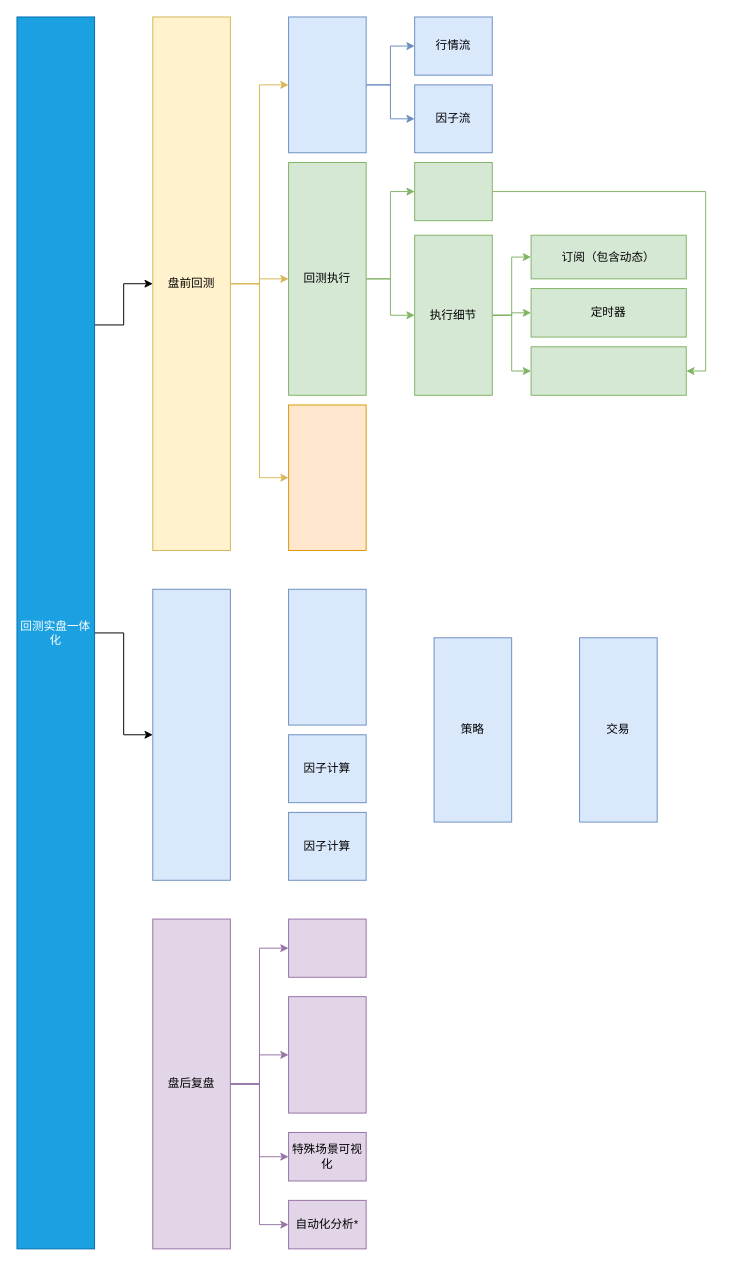
Some shapes in this 730 by 1266 pixel diagram are drawn without their labels. Here are the shapes that lost their labels. From the top down, the centre of each, then its label:
At point 327,84: "数据准备".
At point 453,191: "撮合逻辑[插件]".
At point 608,370: "数据流处理".
At point 327,477: "报告[插件]".
At point 327,656: "行情".
At point 191,734: "实盘".
At point 327,947: "信息流查看搜索过滤".
At point 327,1054: "回放 [可重新编译增加log]".
